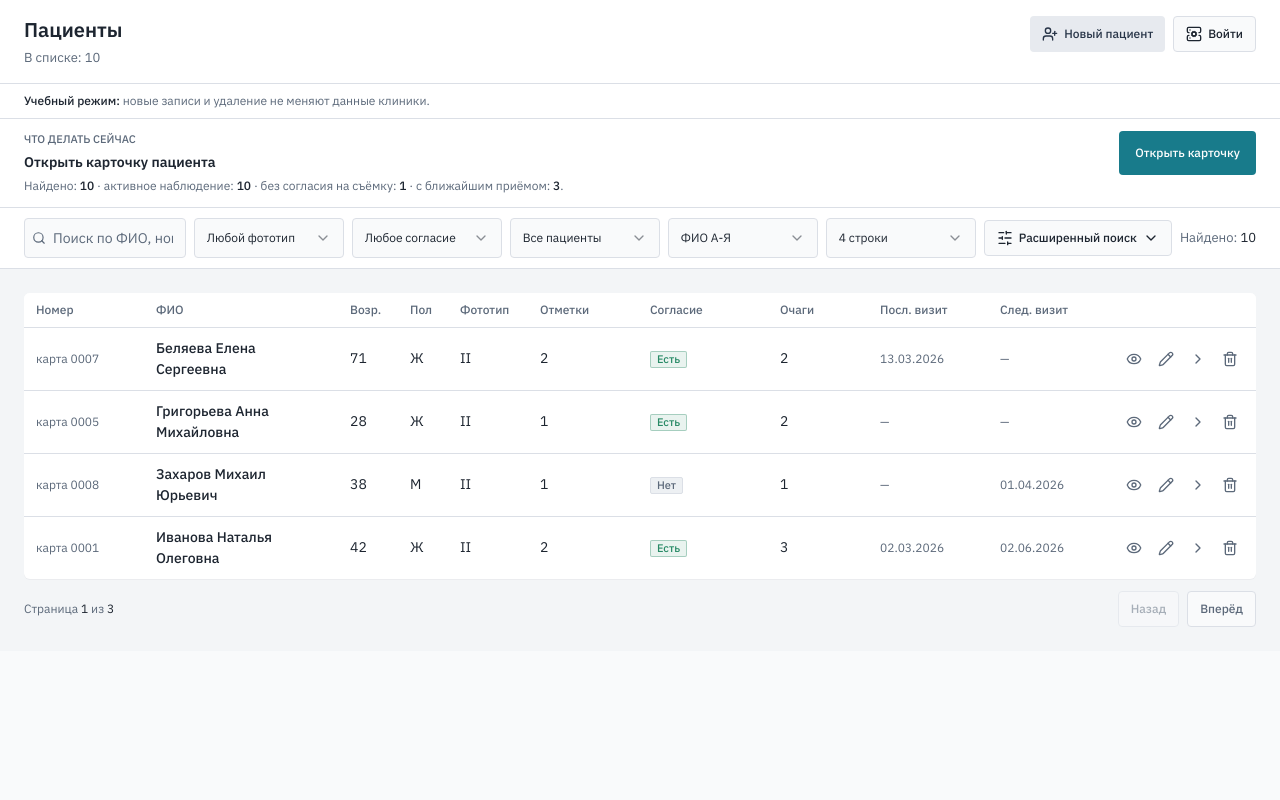
Test: PatientsPage › opens quick patient preview without entering edit mode
Click the button named "Просмотреть пациента Иванова Наталья Олеговна". click: (1134, 548)
box: [1120,534,1148,562]
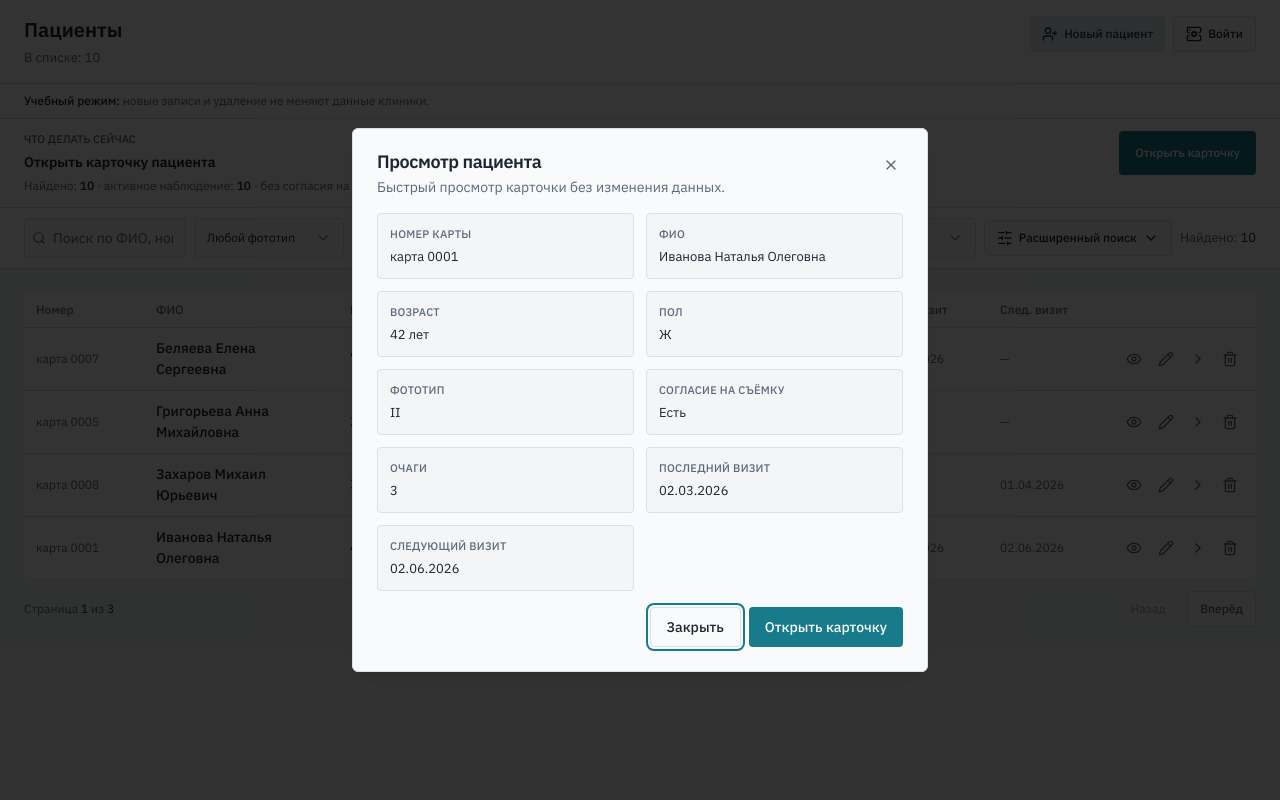
Now the text "карта 0001" is shown, box [390,248,458,264]
Now the text "Иванова Наталья Олеговна" is shown, box [659,248,826,264]
